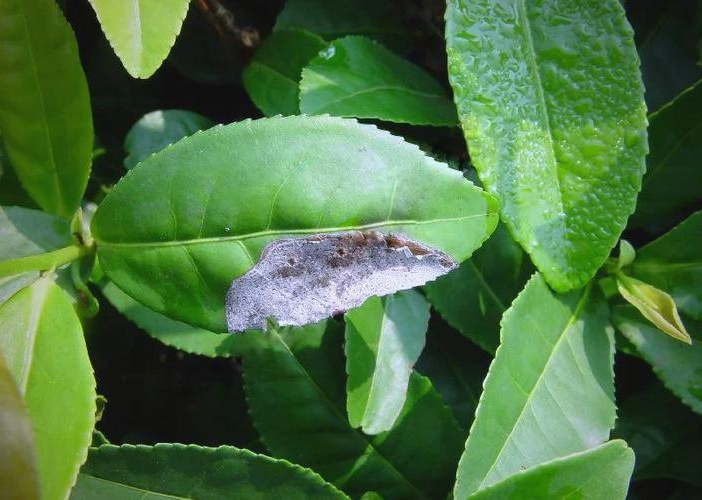Anthracnose: (213, 213, 458, 371)
